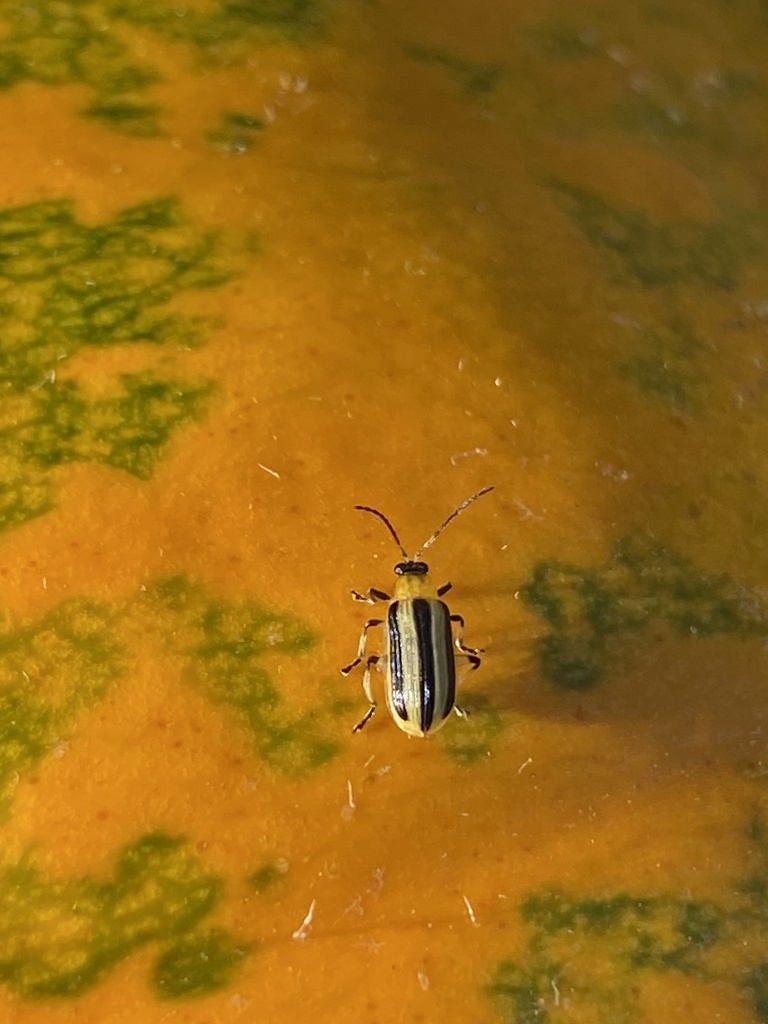potato_beetle: (264, 431, 570, 814)
